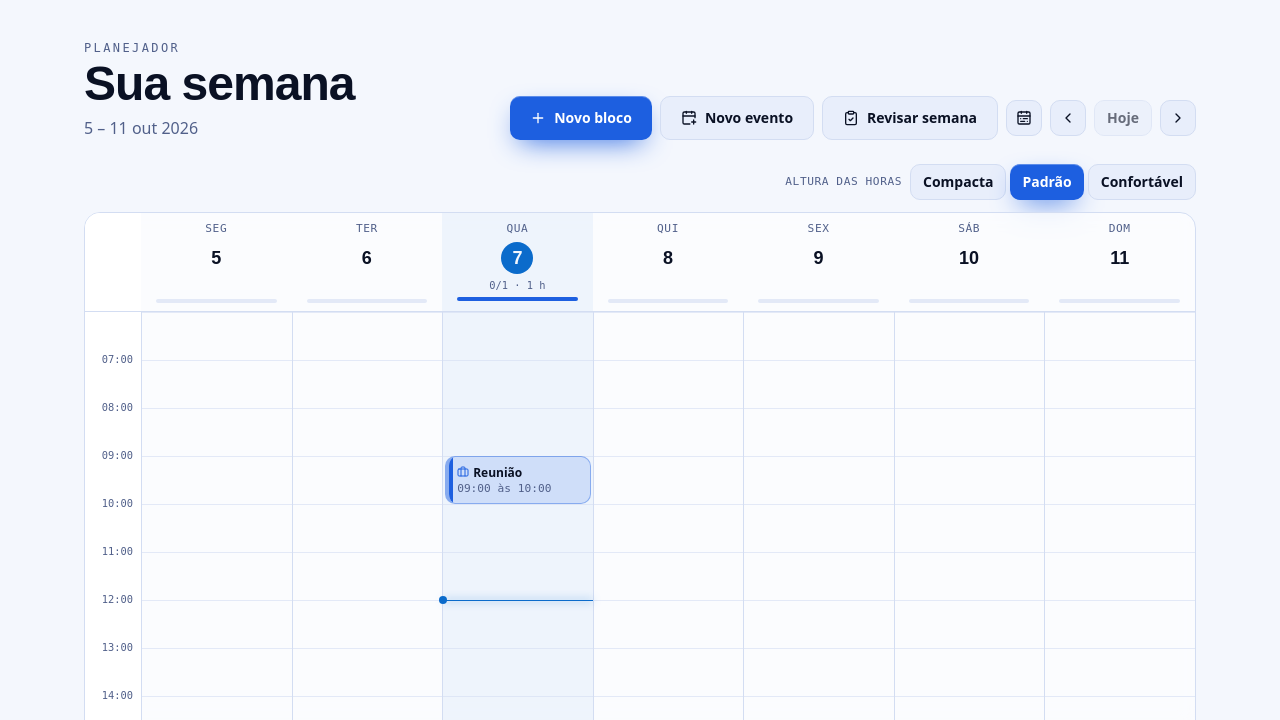
WeekPage: arrastar e soltar na grade (RF18) › soltar em outro dia e horário altera só esta ocorrência (exceção override) e avisa
The image size is (1280, 720).
Click the button with aria-label "Reunião, quarta-feira, 09:00 às 10:00". click: x=518, y=480
box: [445, 456, 591, 504]
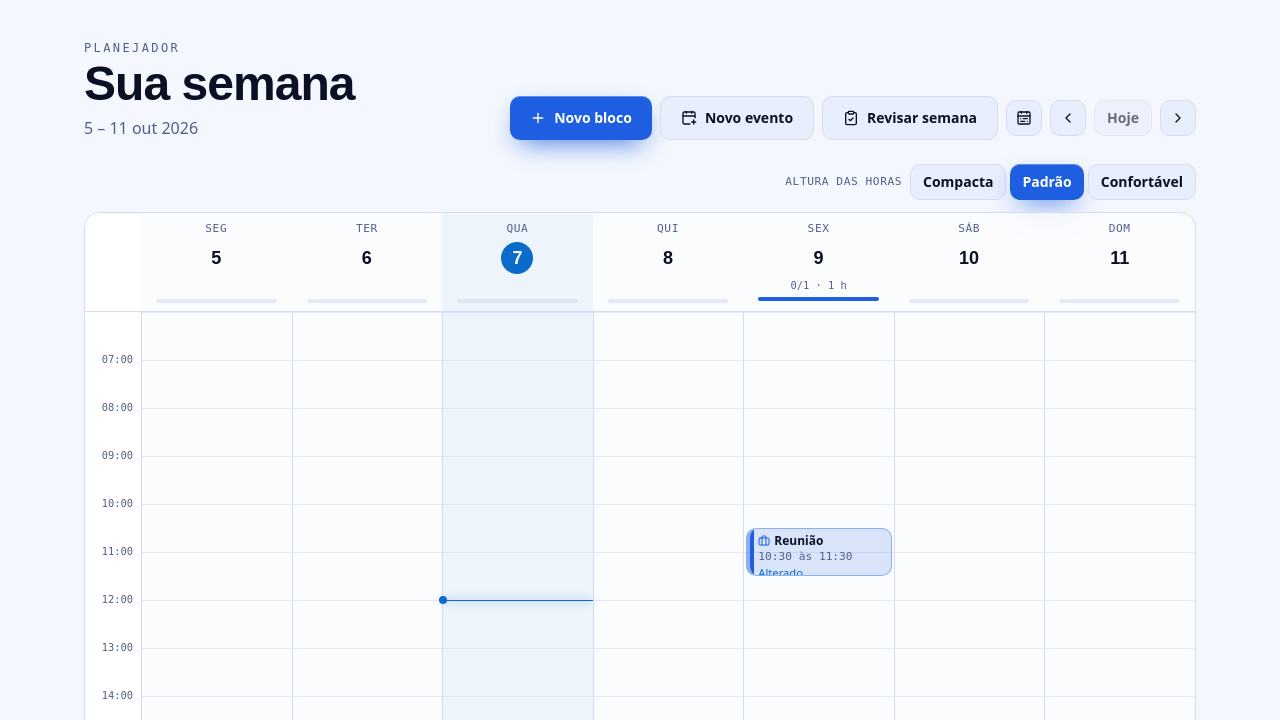
Expected: the button with aria-label "Reunião, sexta-feira, 10:30 às 11:30" is shown, [746, 528, 892, 576]
